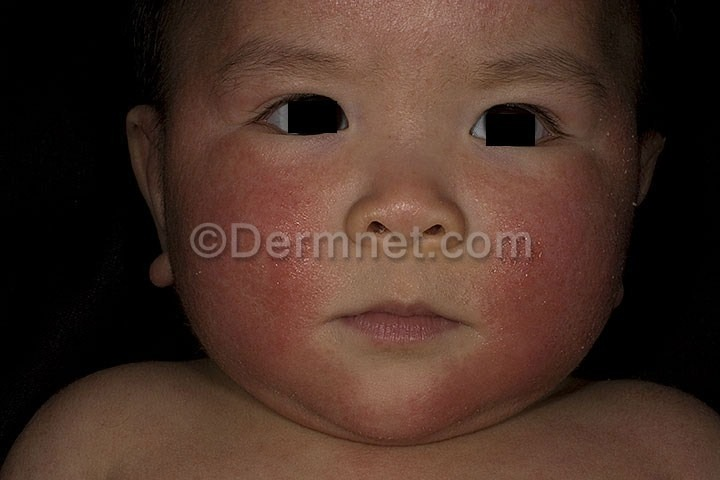Eczema: (178, 134, 346, 390), (469, 161, 632, 390), (301, 1, 537, 47), (332, 374, 477, 443)
